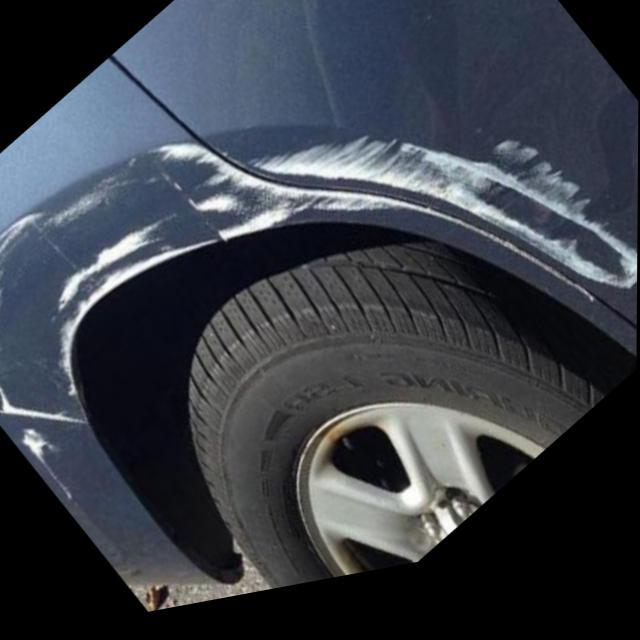crack: (18, 428, 73, 505)
rub: (0, 147, 638, 431)
